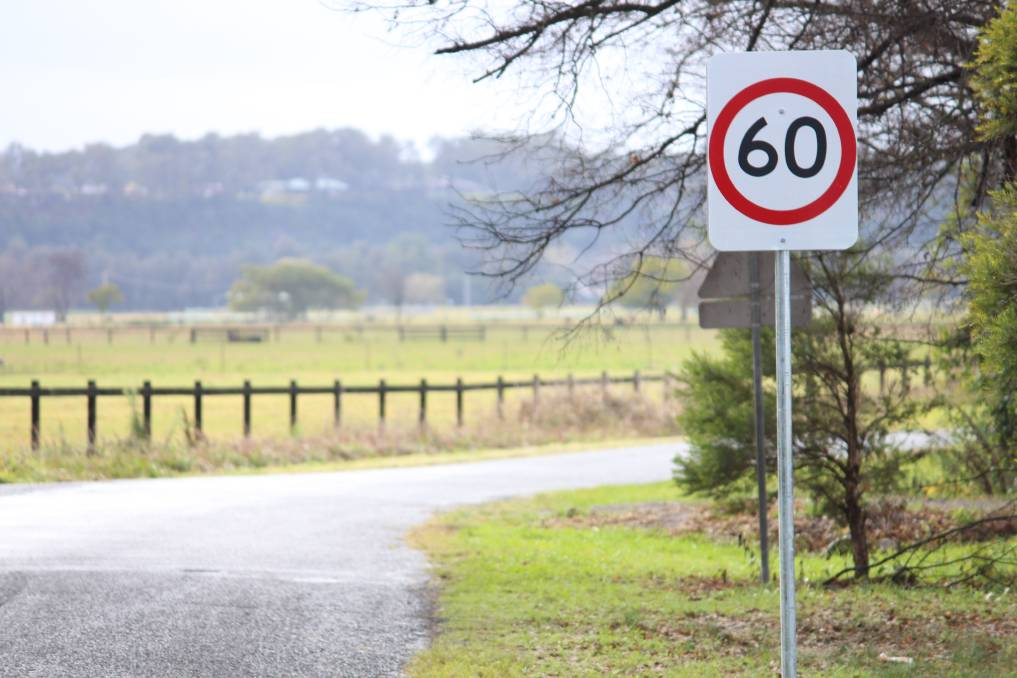Speed_limit_60km: (703, 76, 865, 225)
